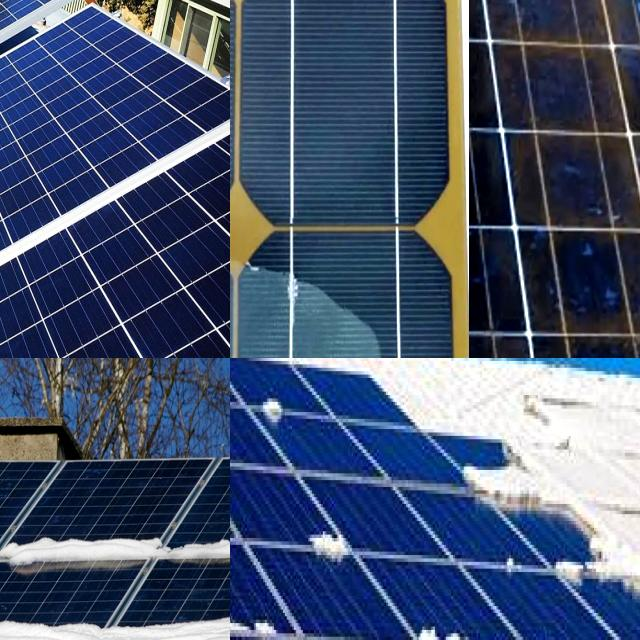crack: (0, 0, 230, 274), (0, 113, 230, 358), (0, 105, 134, 358)
panel: (0, 504, 173, 640), (0, 511, 230, 582), (379, 358, 523, 444), (0, 596, 230, 640), (463, 439, 569, 515), (546, 378, 640, 447), (548, 537, 640, 605), (230, 358, 363, 396), (230, 582, 296, 640), (403, 609, 516, 640), (305, 512, 358, 572), (258, 376, 296, 447), (230, 371, 276, 429), (230, 545, 257, 633), (538, 612, 584, 640)
shadow: (525, 37, 640, 317), (230, 224, 404, 358)
